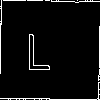L: (25, 24, 52, 71)
